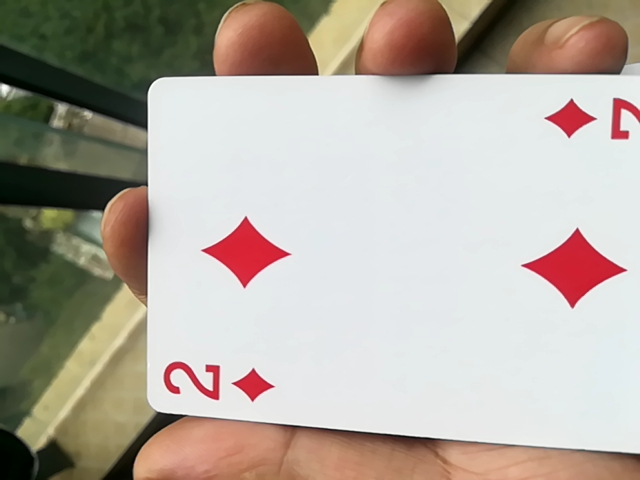fk 2: (127, 82, 635, 461)
